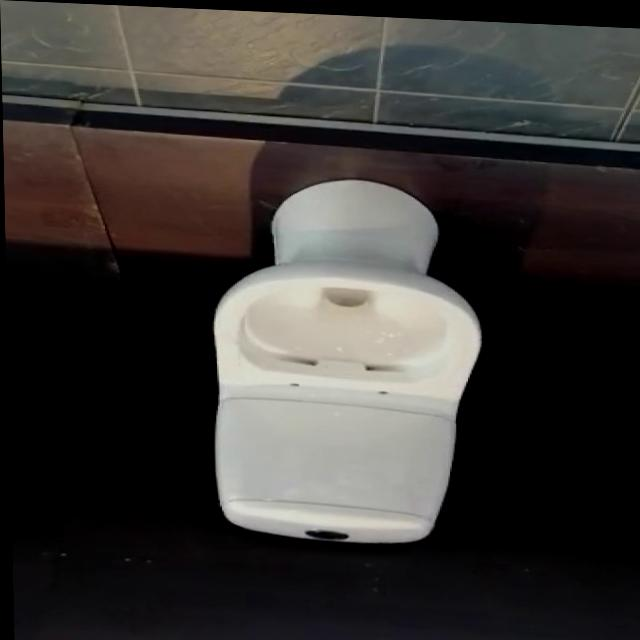toilet: (205, 171, 483, 546)
